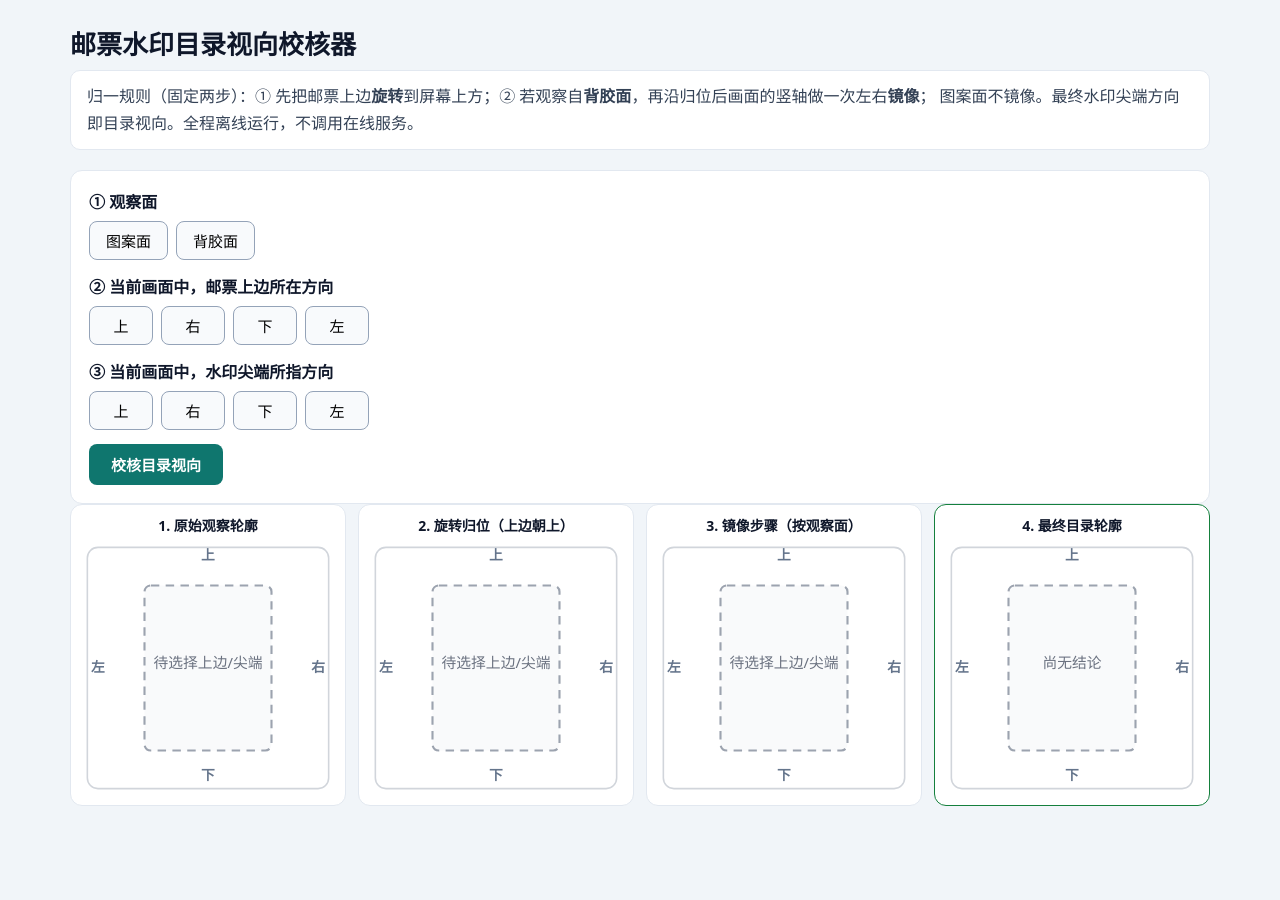
Scenario: 校核器交互 › 图案面同姿态 → 目录视向保持右向，且镜像步骤标注“不镜像”
The width and height of the screenshot is (1280, 900).
Step 1. Click the button with test id "face-control-design" → (128, 241), box [89,221,168,260]
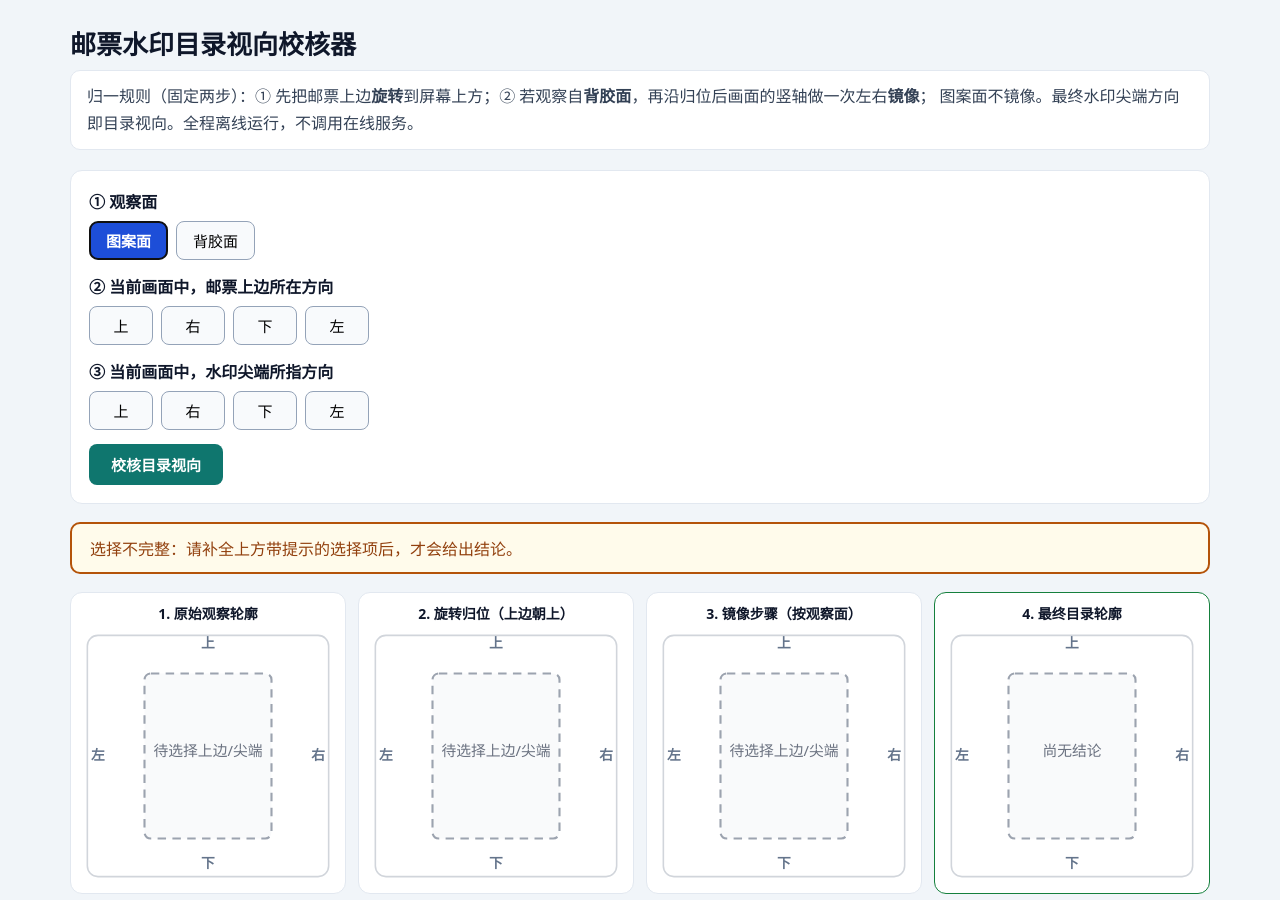
Step 2. Click the button with test id "top-control-U" → (121, 326), box [89,306,153,345]
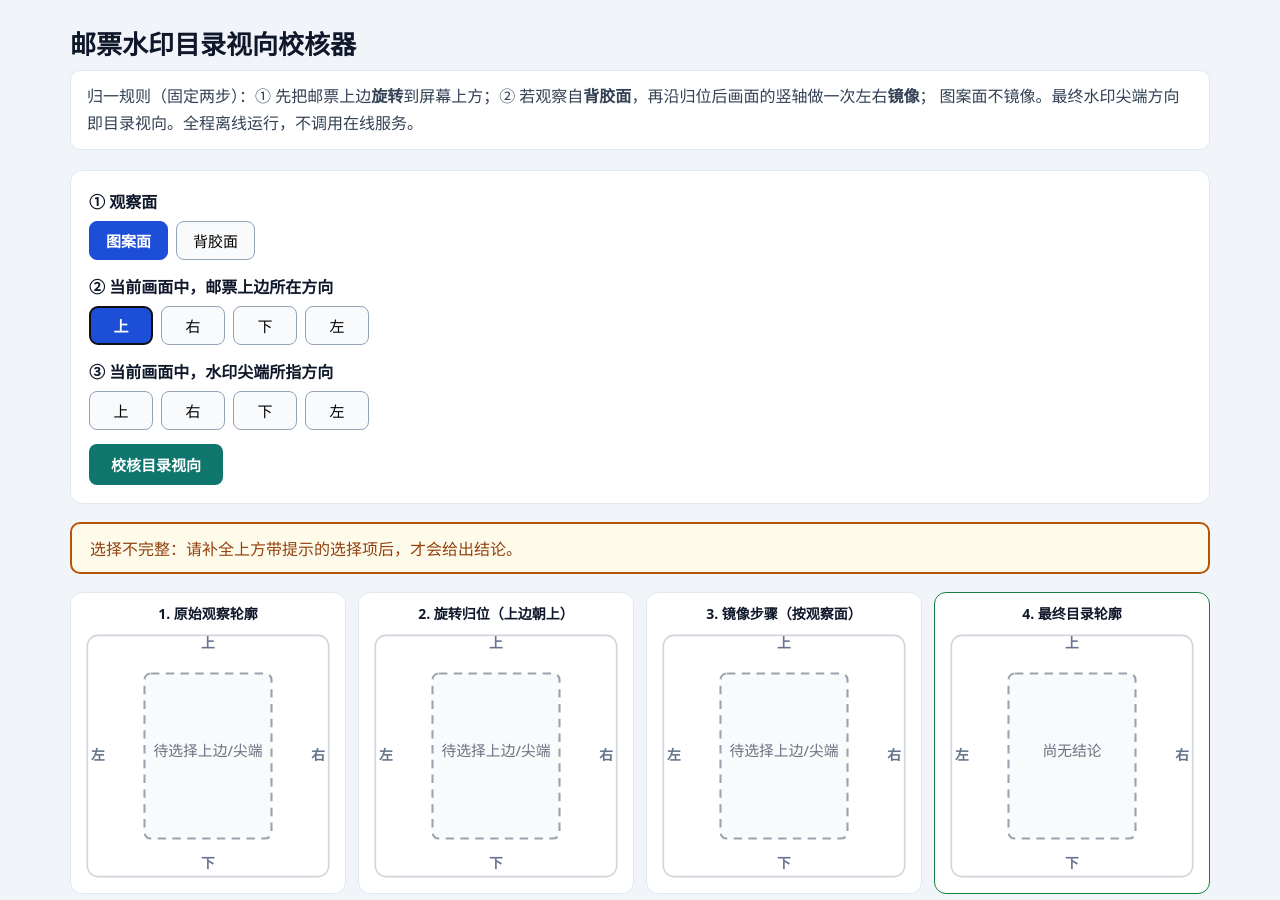
Step 3. Click the button with test id "tip-control-R" → (193, 411), box [161,391,225,430]
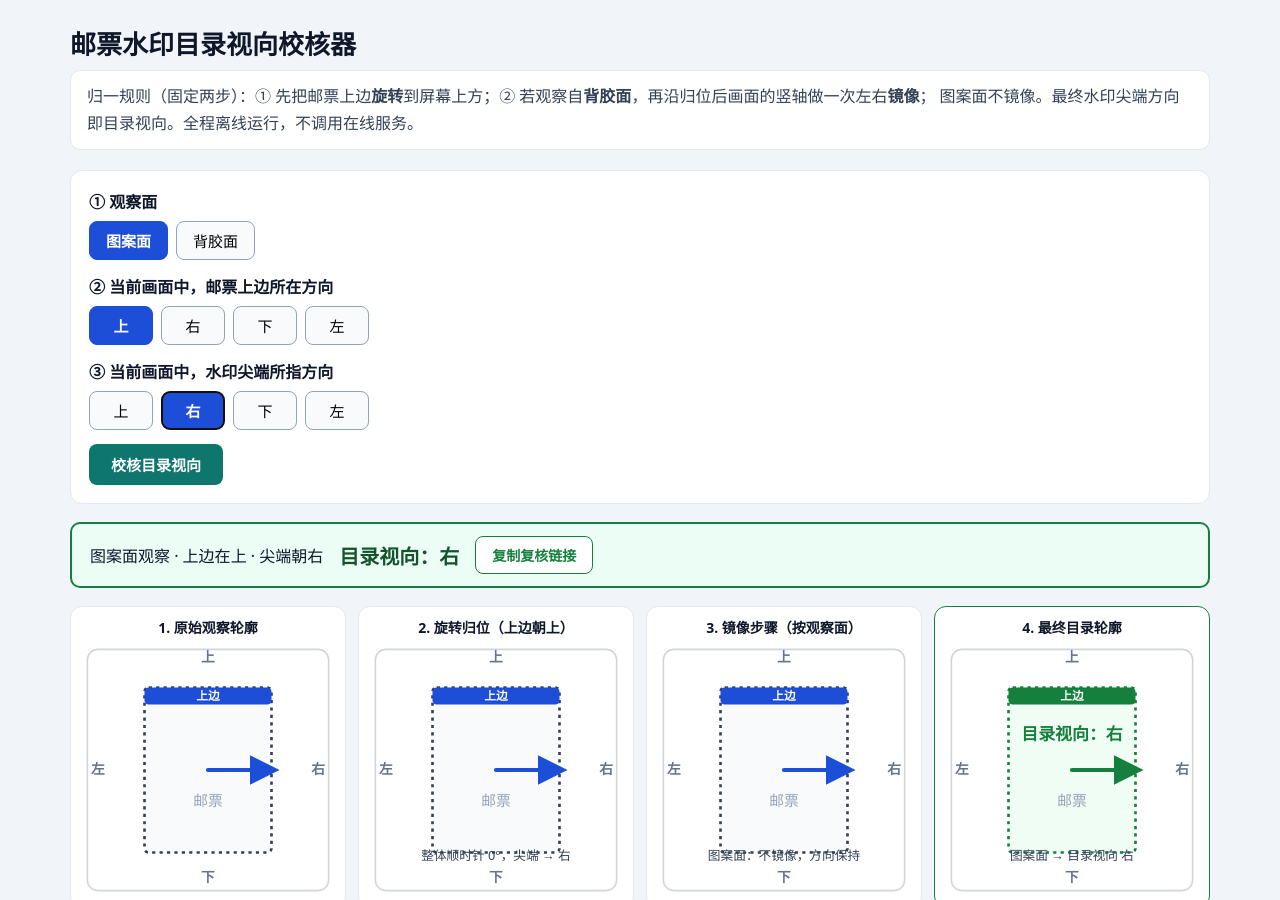
Check: the element with test id "result-banner" shows "目录视向：右", box [70,522,1210,588]
Check: the picture with test id "figure-mirror" shows "不镜像", box [708,846,860,864]
